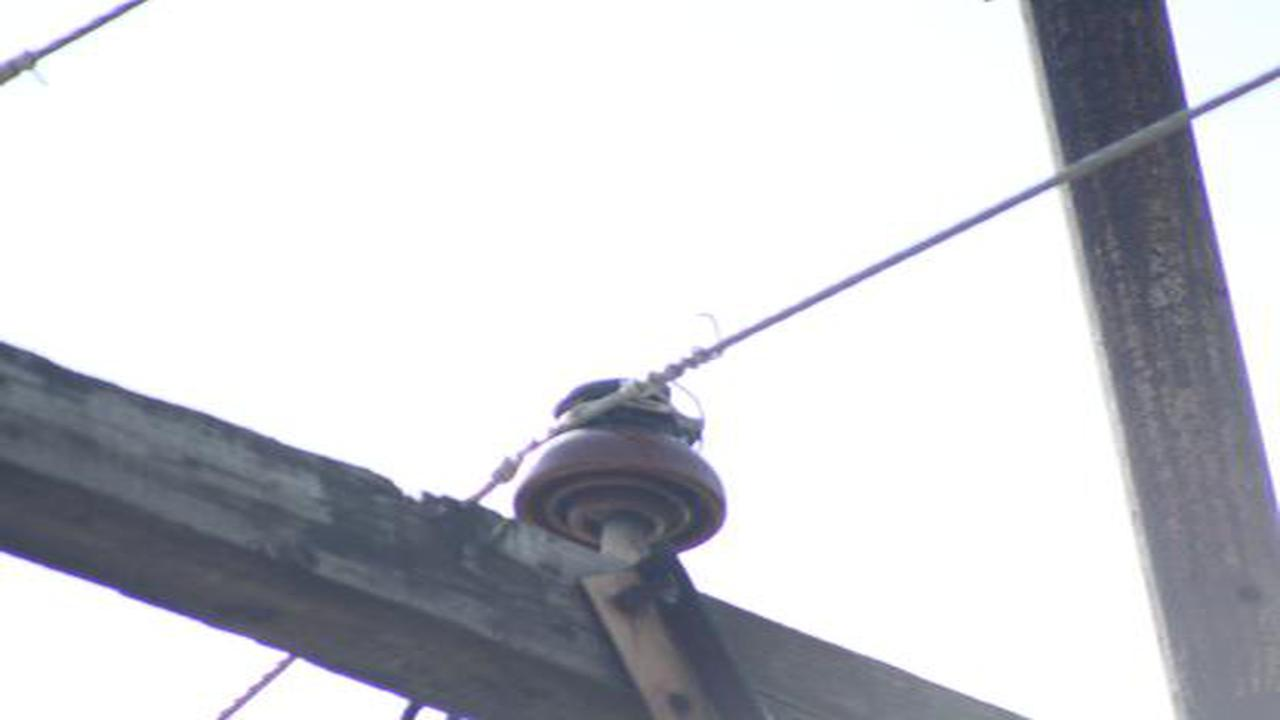insulator_pin: (506, 371, 736, 555)
